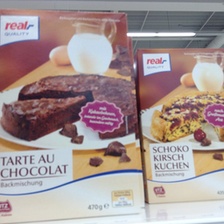cake: (1, 11, 146, 221), (135, 45, 224, 206)
